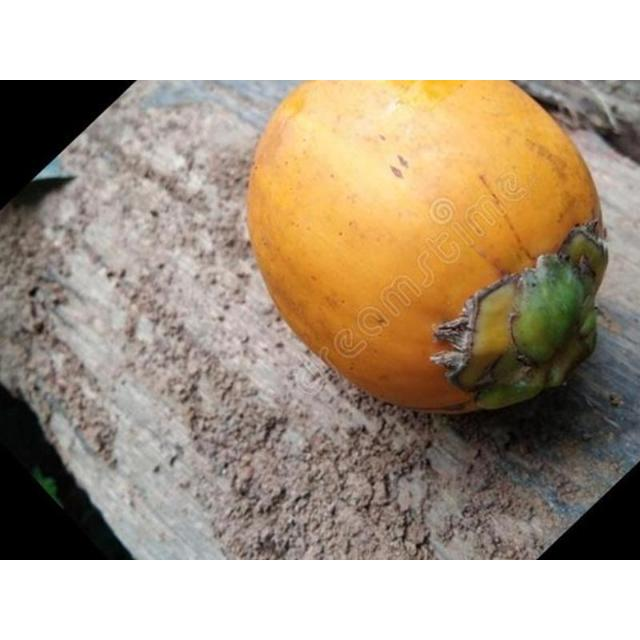good: (245, 80, 609, 416)
